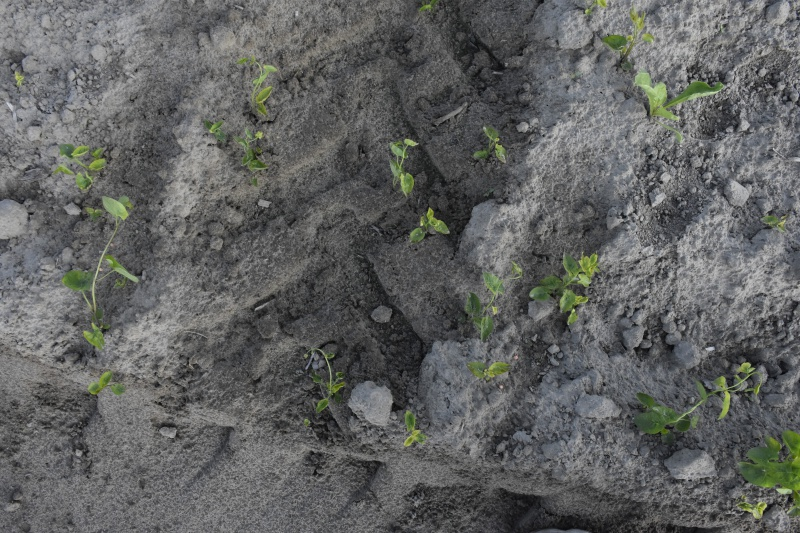field bindweed: (60, 188, 140, 343), (461, 264, 526, 344), (531, 253, 603, 322), (210, 121, 267, 187), (238, 52, 280, 119), (306, 347, 347, 413), (53, 139, 108, 186), (386, 138, 419, 199), (406, 210, 448, 243), (86, 371, 131, 400), (474, 127, 510, 161), (403, 409, 430, 451), (465, 360, 518, 380), (761, 207, 795, 235), (12, 67, 28, 92)
sugar beet: (630, 69, 730, 144)
